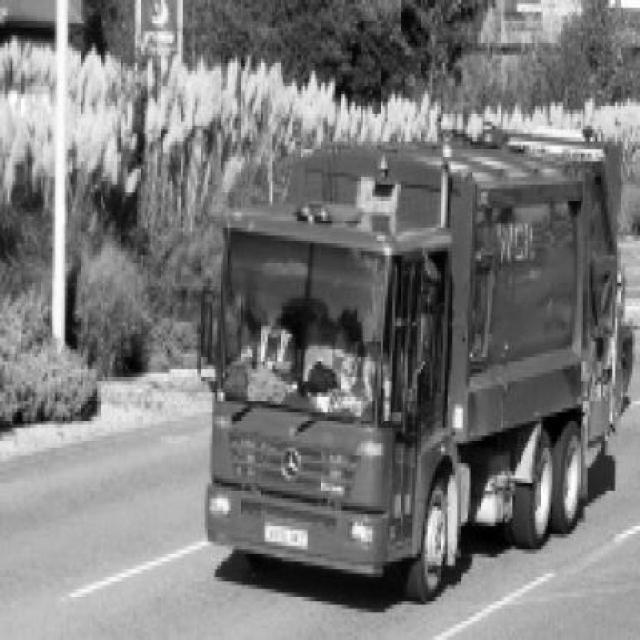Garbage Truck: (196, 126, 634, 605)
